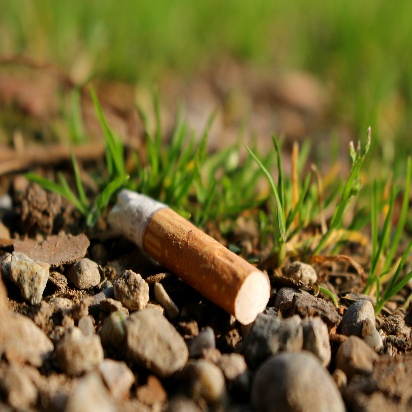cigarette: (99, 185, 276, 332)
